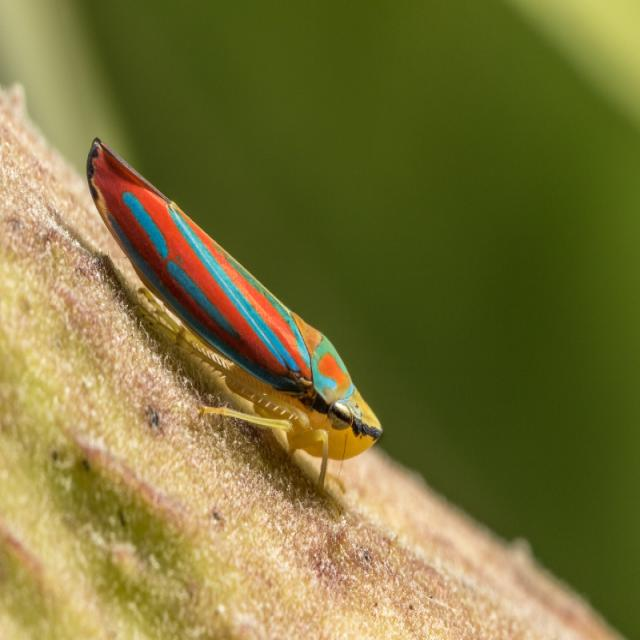Yechan: (73, 119, 390, 484)
